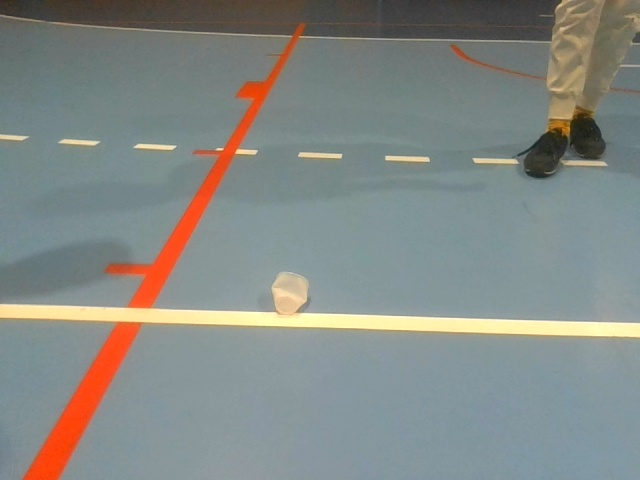plasticcup: (271, 271, 308, 314)
